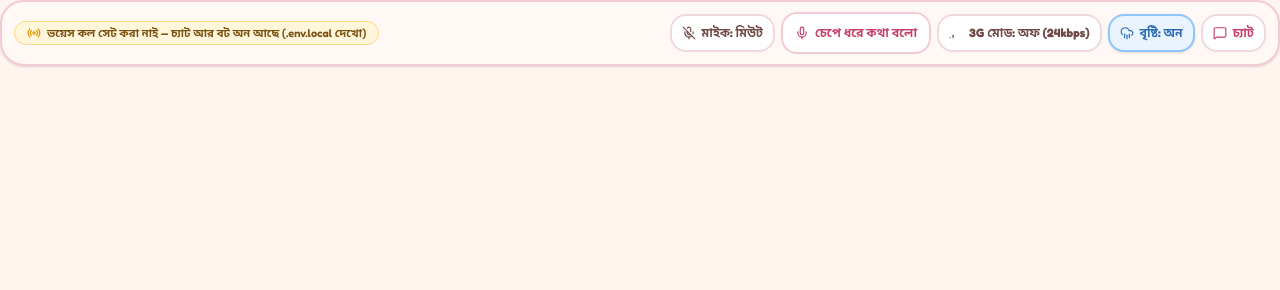
Test: components/VoiceBar (F-18, F-19, F-20, F-21, F-22) › renders simple natural Bangla labels and Bangla banter chips by default when lang is omitted
Later steps or results of the test are not shown.
Check: the message with test id "livekit-fallback-banner" shows "ভয়েস কল সেট করা নাই", box [47,26,366,40]
Check: the button with test id "hold-to-talk-button" reads "চেপে ধরে কথা বলো", box [781,12,931,54]
Step 1. Click the button with test id "chat-toggle-button" → click(1233, 33), box [1201,14,1266,52]
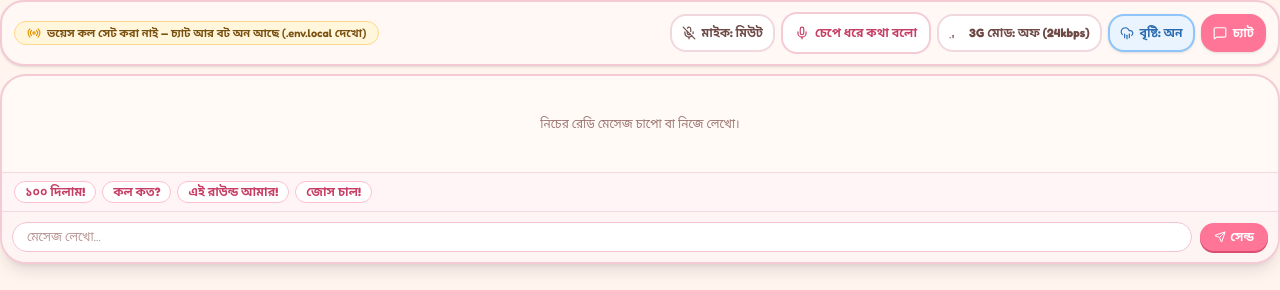
Check: the element with test id "chat-drawer" shows "সেন্ড", box [1200,223,1268,251]
